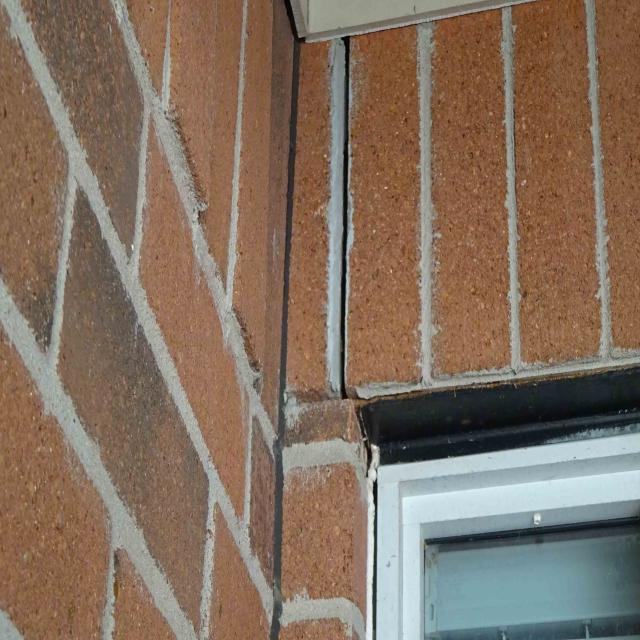Crack: (338, 33, 370, 447)
